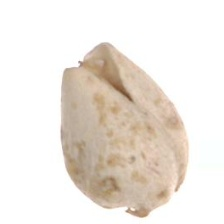L1: (61, 40, 128, 103), (118, 198, 161, 217)
L2: (60, 41, 189, 217)
